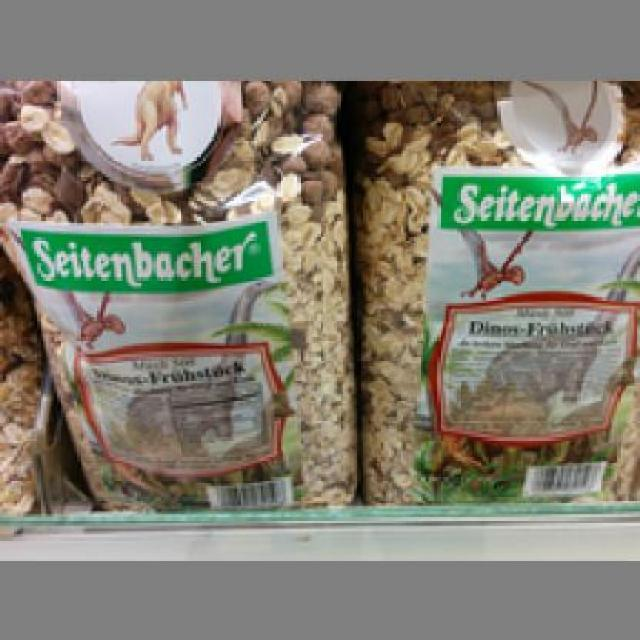Cereal: (0, 78, 355, 515)
